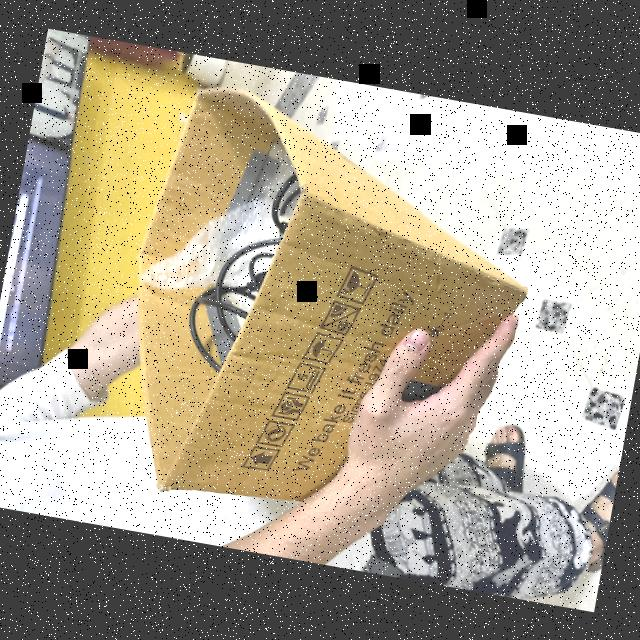cardboard_box: (89, 68, 551, 548)
